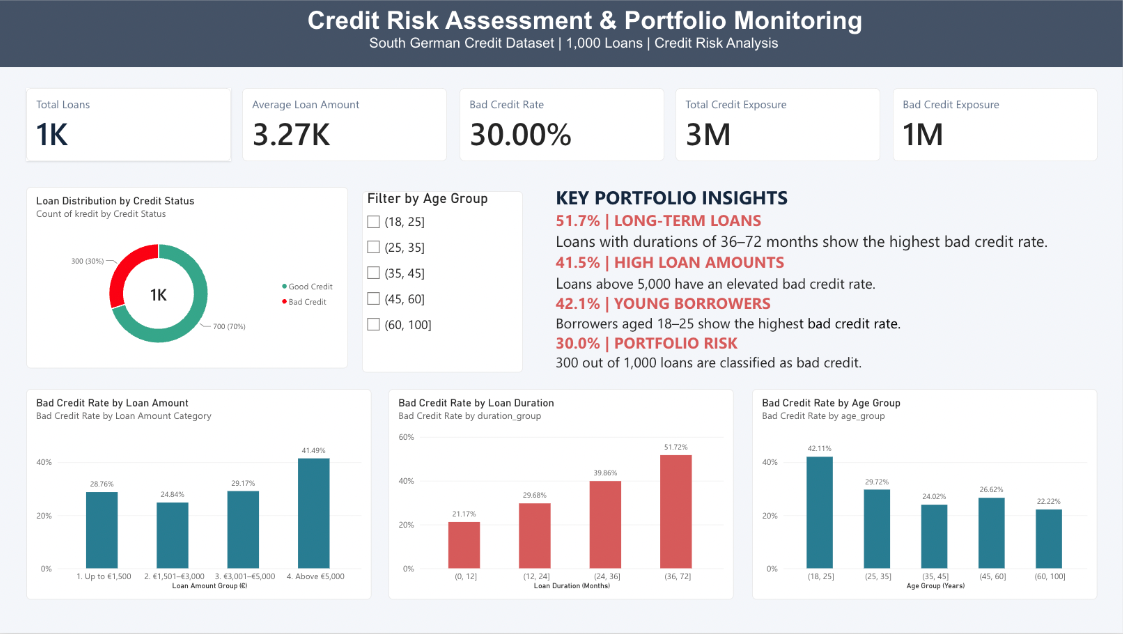

This screenshot's page, from the dashboard's own definition file:
{"tool":"powerbi","page":{"name":"1. sayfa","canvas":[1920,1080],"ordinal":0},"visuals":[{"type":"shape","box":[0,0,1921.4,114.3],"z":0},{"type":"cardVisual","fields":{"Data":["CountNonNull(credit_risk_dashboard 1.kredit)"]},"box":[45,150,350,125],"z":1000},{"type":"cardVisual","fields":{"Data":["credit_risk_dashboard 1.Bad Credit Rate"]},"box":[785,150,350,125],"z":2000},{"type":"cardVisual","fields":{"Data":["Avg(credit_risk_dashboard 1.hoehe)"]},"box":[415,150,350,125],"z":3000},{"type":"cardVisual","fields":{"Data":["Sum(credit_risk_dashboard 1.hoehe)"]},"box":[1155,150,350,125],"z":4000},{"type":"clusteredColumnChart","title":"Bad Credit Rate by Loan Amount","fields":{"Category":["credit_risk_dashboard 1.Loan Amount Category"],"Y":["credit_risk_dashboard 1.Bad Credit Rate"]},"box":[45,665,590,360],"z":5000},{"type":"clusteredColumnChart","title":"Bad Credit Rate by Loan Duration","fields":{"Category":["credit_risk_dashboard 1.duration_group"],"Y":["credit_risk_dashboard 1.Bad Credit Rate"]},"box":[665,665,590,360],"z":6000},{"type":"clusteredColumnChart","title":"Bad Credit Rate by Age Group","fields":{"Category":["credit_risk_dashboard 1.age_group"],"Y":["credit_risk_dashboard 1.Bad Credit Rate"]},"box":[1285,665,590,360],"z":7000},{"type":"donutChart","title":"Loan Distribution by Credit Status","fields":{"Category":["credit_risk_dashboard 1.Credit Status"],"Y":["CountNonNull(credit_risk_dashboard 1.kredit)"]},"box":[45,320,550,310],"z":8000},{"type":"textbox","box":[450,9.5,1100,50],"z":9000},{"type":"textbox","box":[950,315,876.2,328.6],"z":9500},{"type":"textbox","box":[580,60,800,159.5],"z":10000},{"type":"slicer","fields":{"Values":["credit_risk_dashboard 1.age_group"]},"box":[620,325,275,310],"z":12000},{"type":"cardVisual","fields":{"Data":["credit_risk_dashboard 1.Bad Credit Exposure"]},"box":[1525,150,350,125],"z":13000}]}

Visuals, with their boxes in screenshot pixels (x1, y1, x2, y2), scaled from the page's 1920x1080 canvas onto the 1123x634 screenshot:
shape: bbox=(0, 0, 1122, 67)
cardVisual - CountNonNull(credit_risk_dashboard 1.kredit): bbox=(26, 88, 231, 161)
cardVisual - credit_risk_dashboard 1.Bad Credit Rate: bbox=(459, 88, 664, 161)
cardVisual - Avg(credit_risk_dashboard 1.hoehe): bbox=(243, 88, 447, 161)
cardVisual - Sum(credit_risk_dashboard 1.hoehe): bbox=(676, 88, 880, 161)
"Bad Credit Rate by Loan Amount" clusteredColumnChart: bbox=(26, 390, 371, 602)
"Bad Credit Rate by Loan Duration" clusteredColumnChart: bbox=(389, 390, 734, 602)
"Bad Credit Rate by Age Group" clusteredColumnChart: bbox=(752, 390, 1097, 602)
"Loan Distribution by Credit Status" donutChart: bbox=(26, 188, 348, 370)
textbox: bbox=(263, 6, 907, 35)
textbox: bbox=(556, 185, 1068, 378)
textbox: bbox=(339, 35, 807, 129)
slicer - credit_risk_dashboard 1.age_group: bbox=(363, 191, 523, 373)
cardVisual - credit_risk_dashboard 1.Bad Credit Exposure: bbox=(892, 88, 1097, 161)
